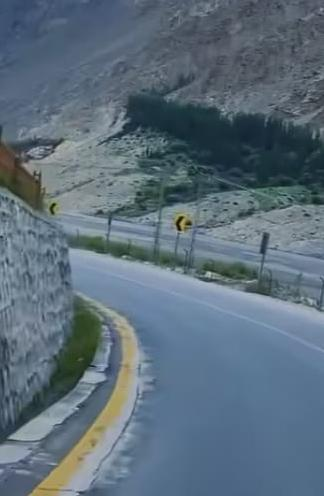left_turn: (38, 223, 284, 332)
